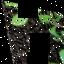Purslane: (1, 0, 64, 64)
